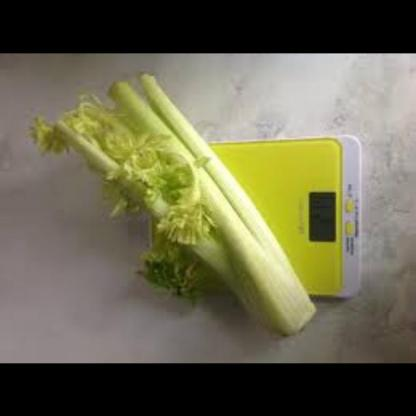celery: (28, 71, 324, 346)
